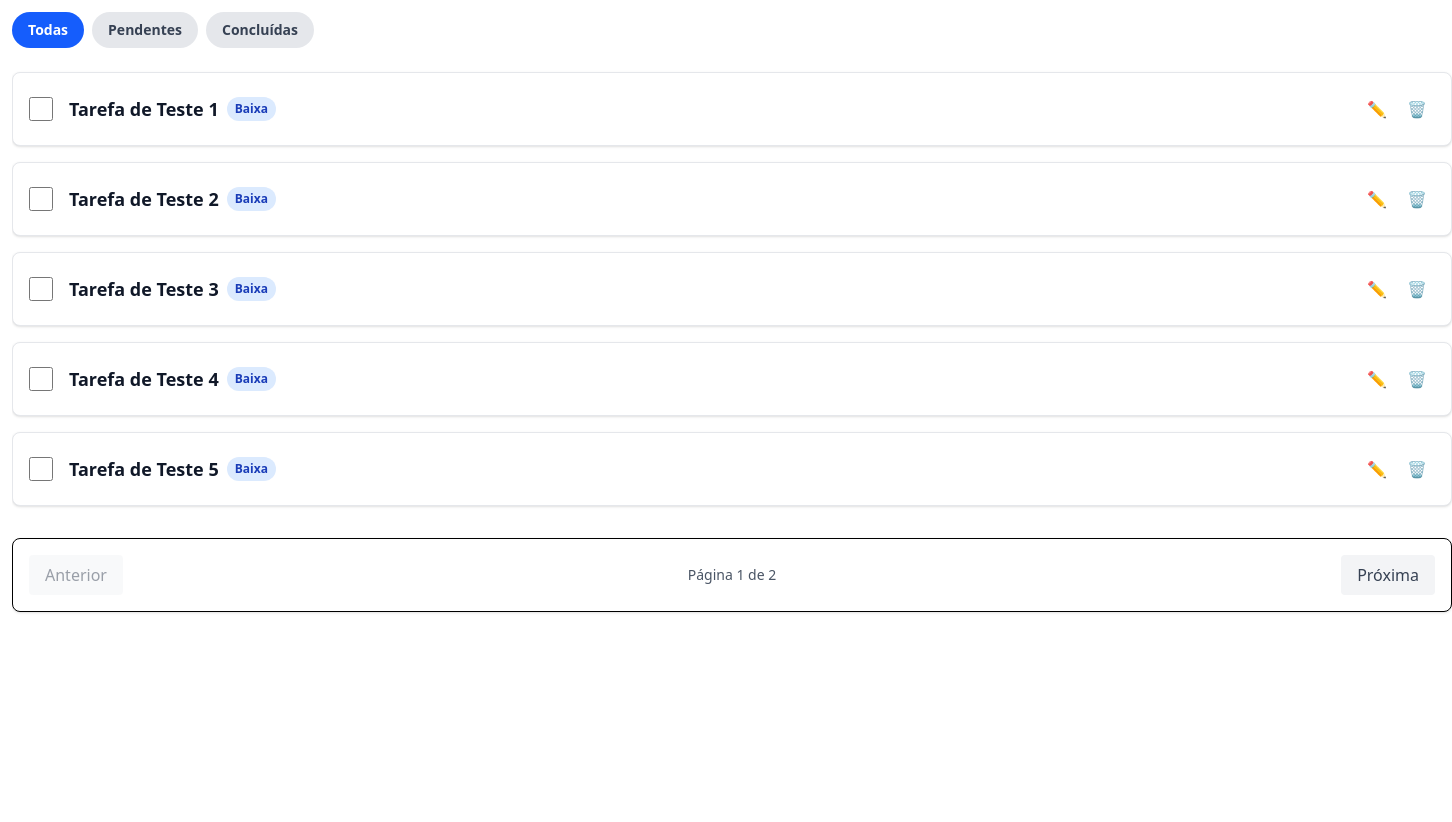
Test case: TaskList › deve exibir apenas o limite de itens por página e permitir a navegação
Expected: the text "Tarefa de Teste 1" is shown, 69,95 -> 219,123
Expected: the text "Tarefa de Teste 6" is not shown
Note: usuário clica no botão de "Próxima" página
Click the button "Próxima" at (1388, 575), box 1341,555 -> 1435,595
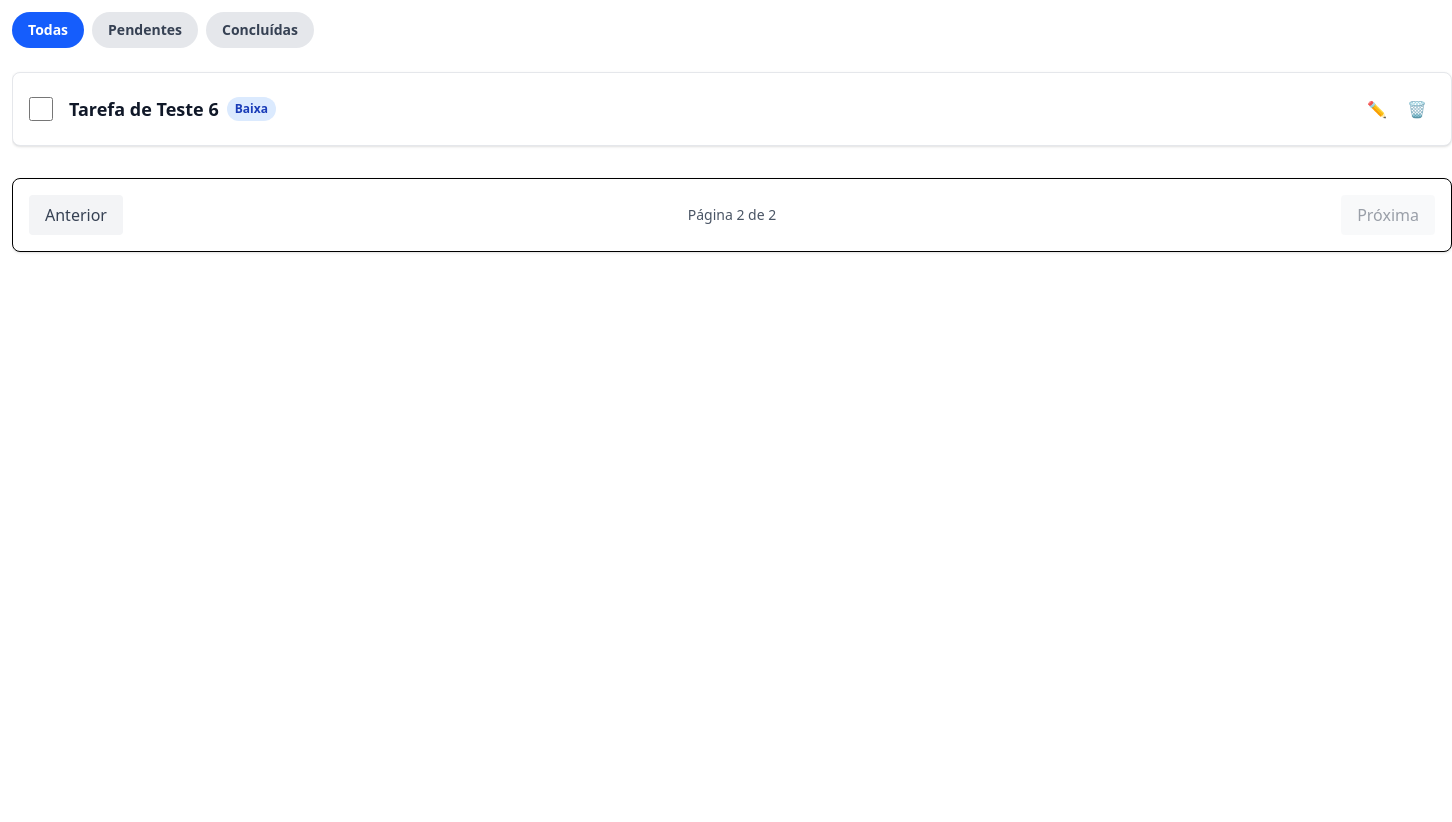
Now the text "Tarefa de Teste 6" is shown, box 69,95 -> 219,123
Now the text "Tarefa de Teste 1" is gone
Note: usuário clica no botão "Anterior" para voltar
Click the button "Anterior" at (76, 215), box 29,195 -> 123,235
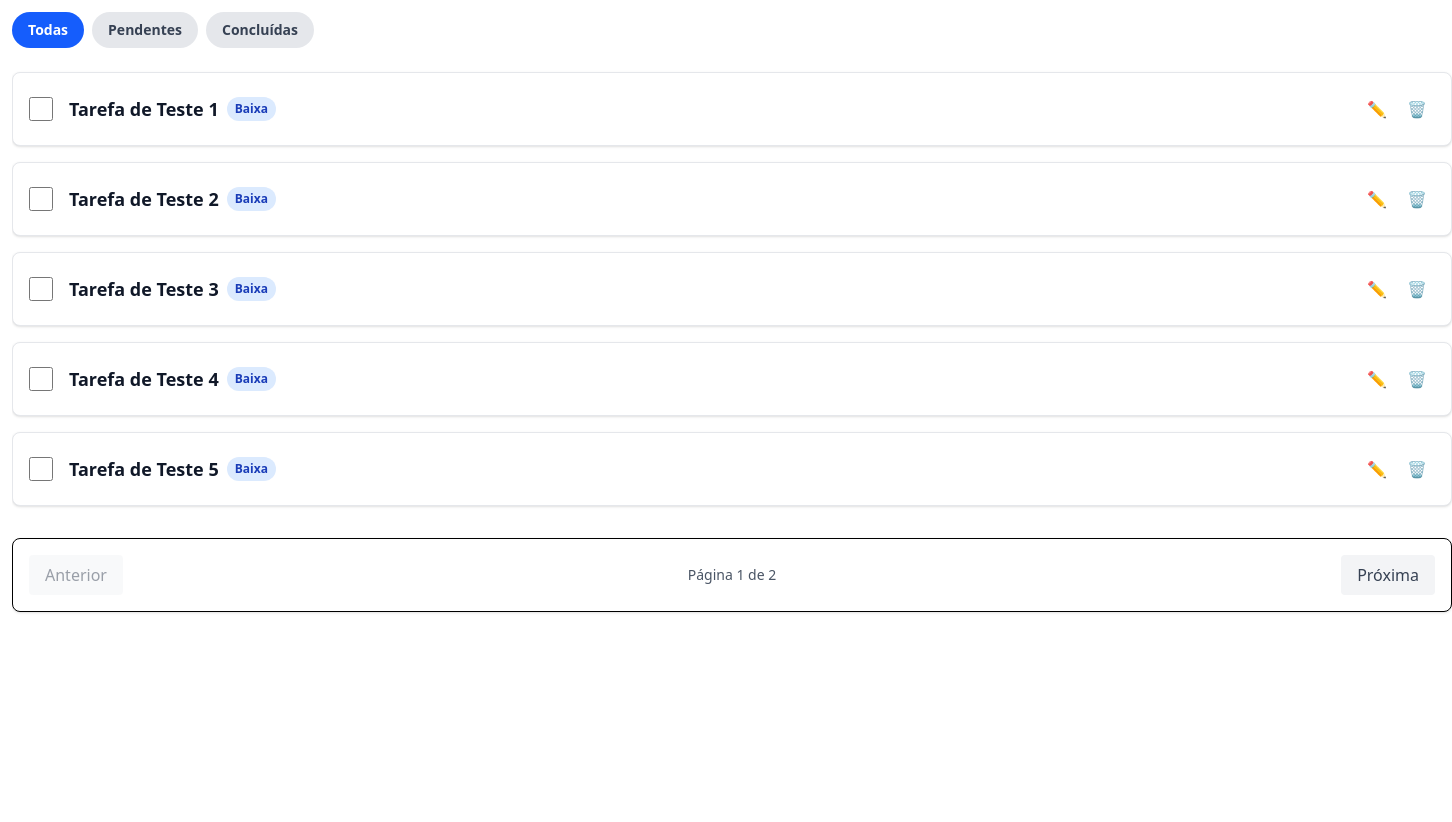
Now the text "Tarefa de Teste 1" is shown, box 69,95 -> 219,123
Now the text "Tarefa de Teste 6" is gone
